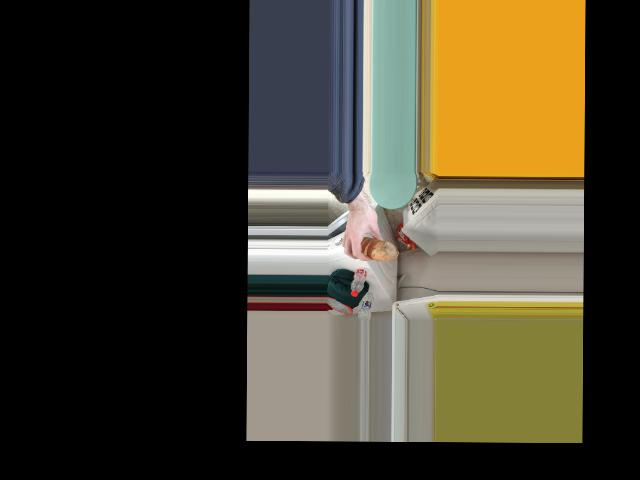sweet_potato: (357, 231, 389, 263)
